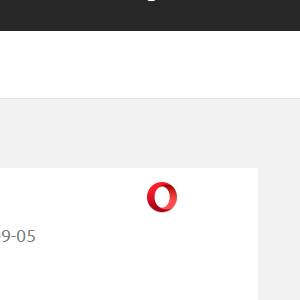opera: (147, 181, 177, 212)
